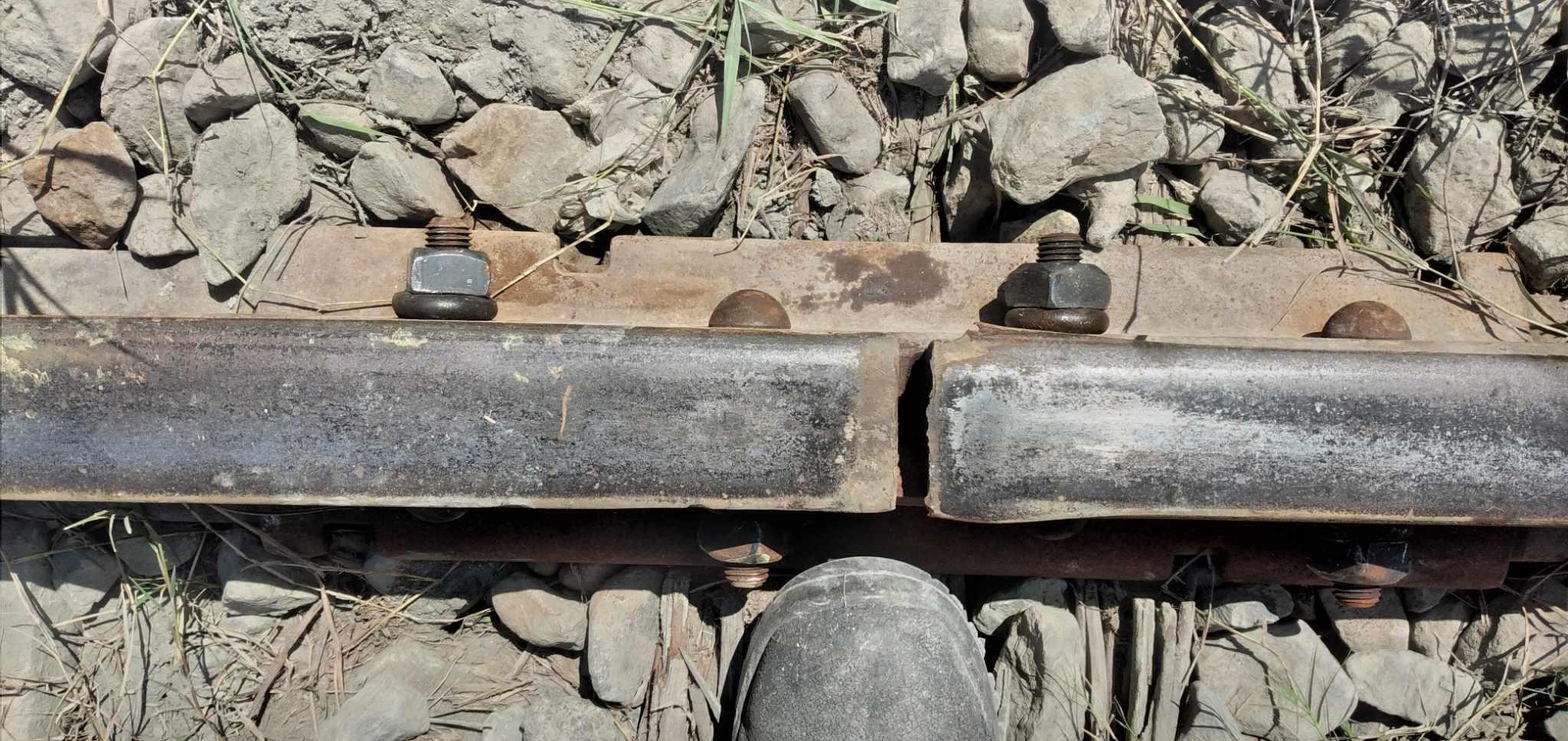railway-gap: (795, 296, 1031, 554)
